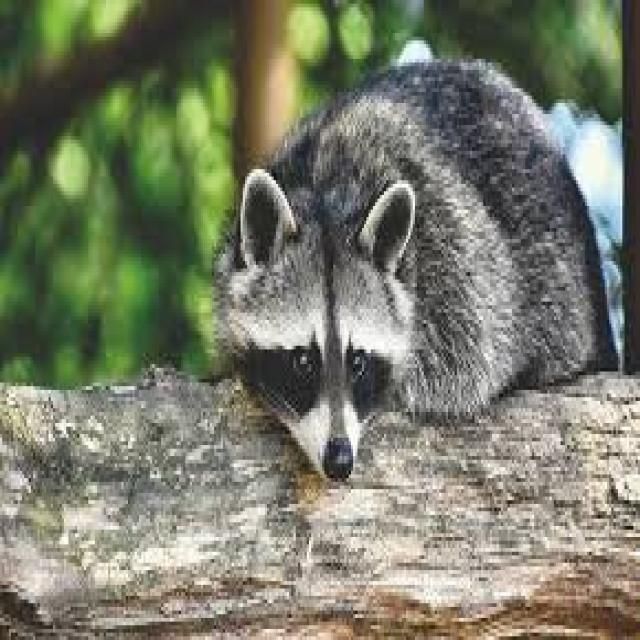Raccoon: (217, 55, 620, 479)
